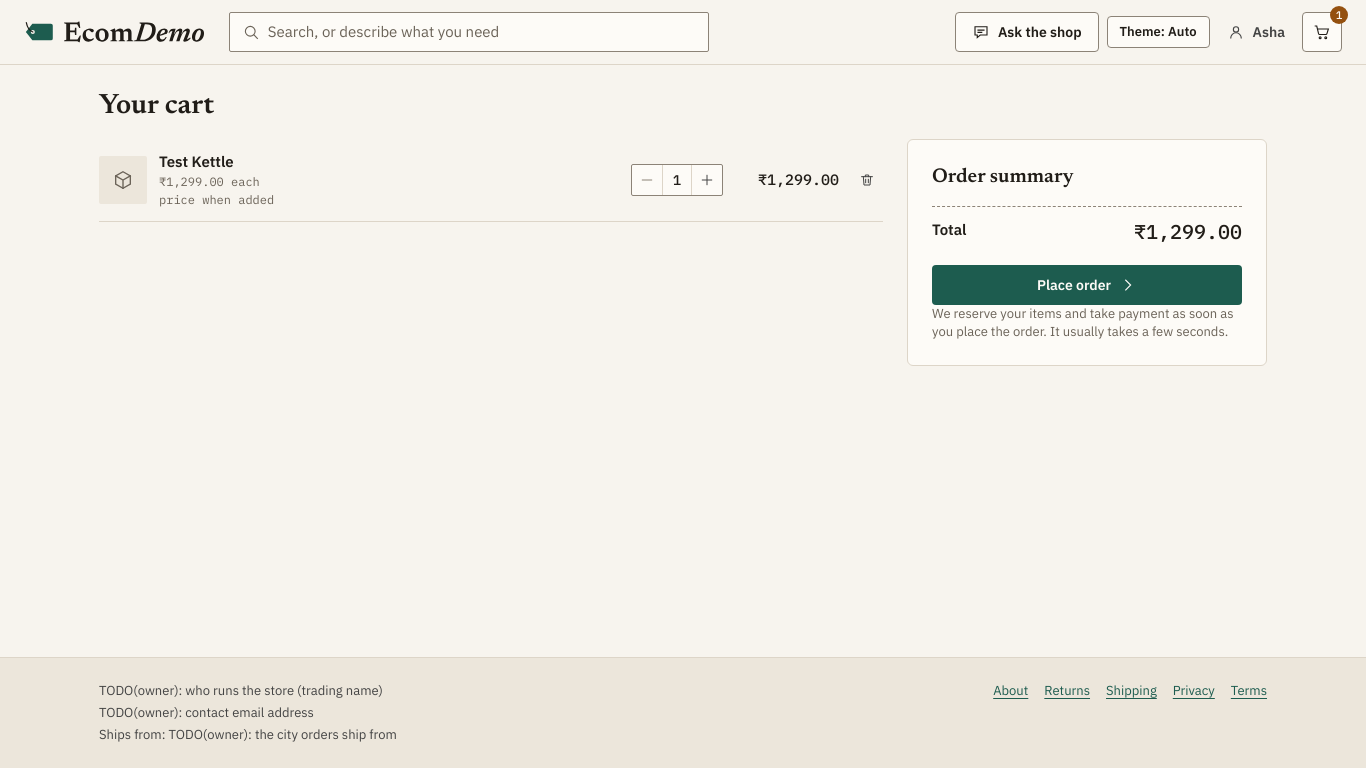
the cart page › moves the stepper at once, and takes the totals from the answer
Check: the heading "Your cart" is shown, box [99,89,214,123]
Click the button named "Increase": coordinates (707, 180) [692,165,722,195]
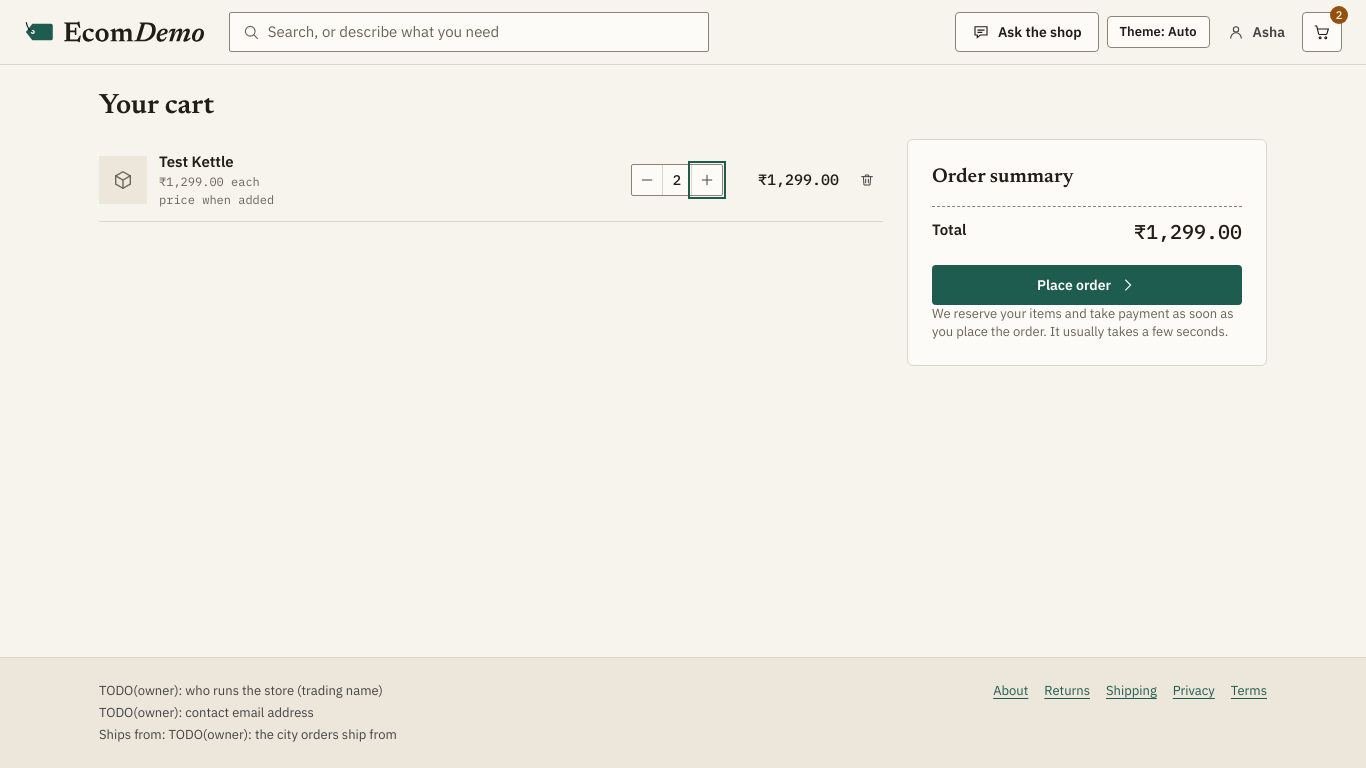
Check: the text "₹1,299.00" in the row of "Total" is shown, box [1134,218,1242,245]
Check: the text "2" in the row of "price when added" is shown, box [673,171,681,189]
